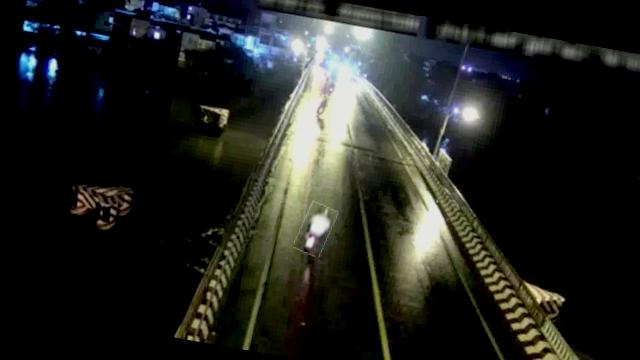Bike: (294, 200, 337, 257), (314, 94, 332, 120)
